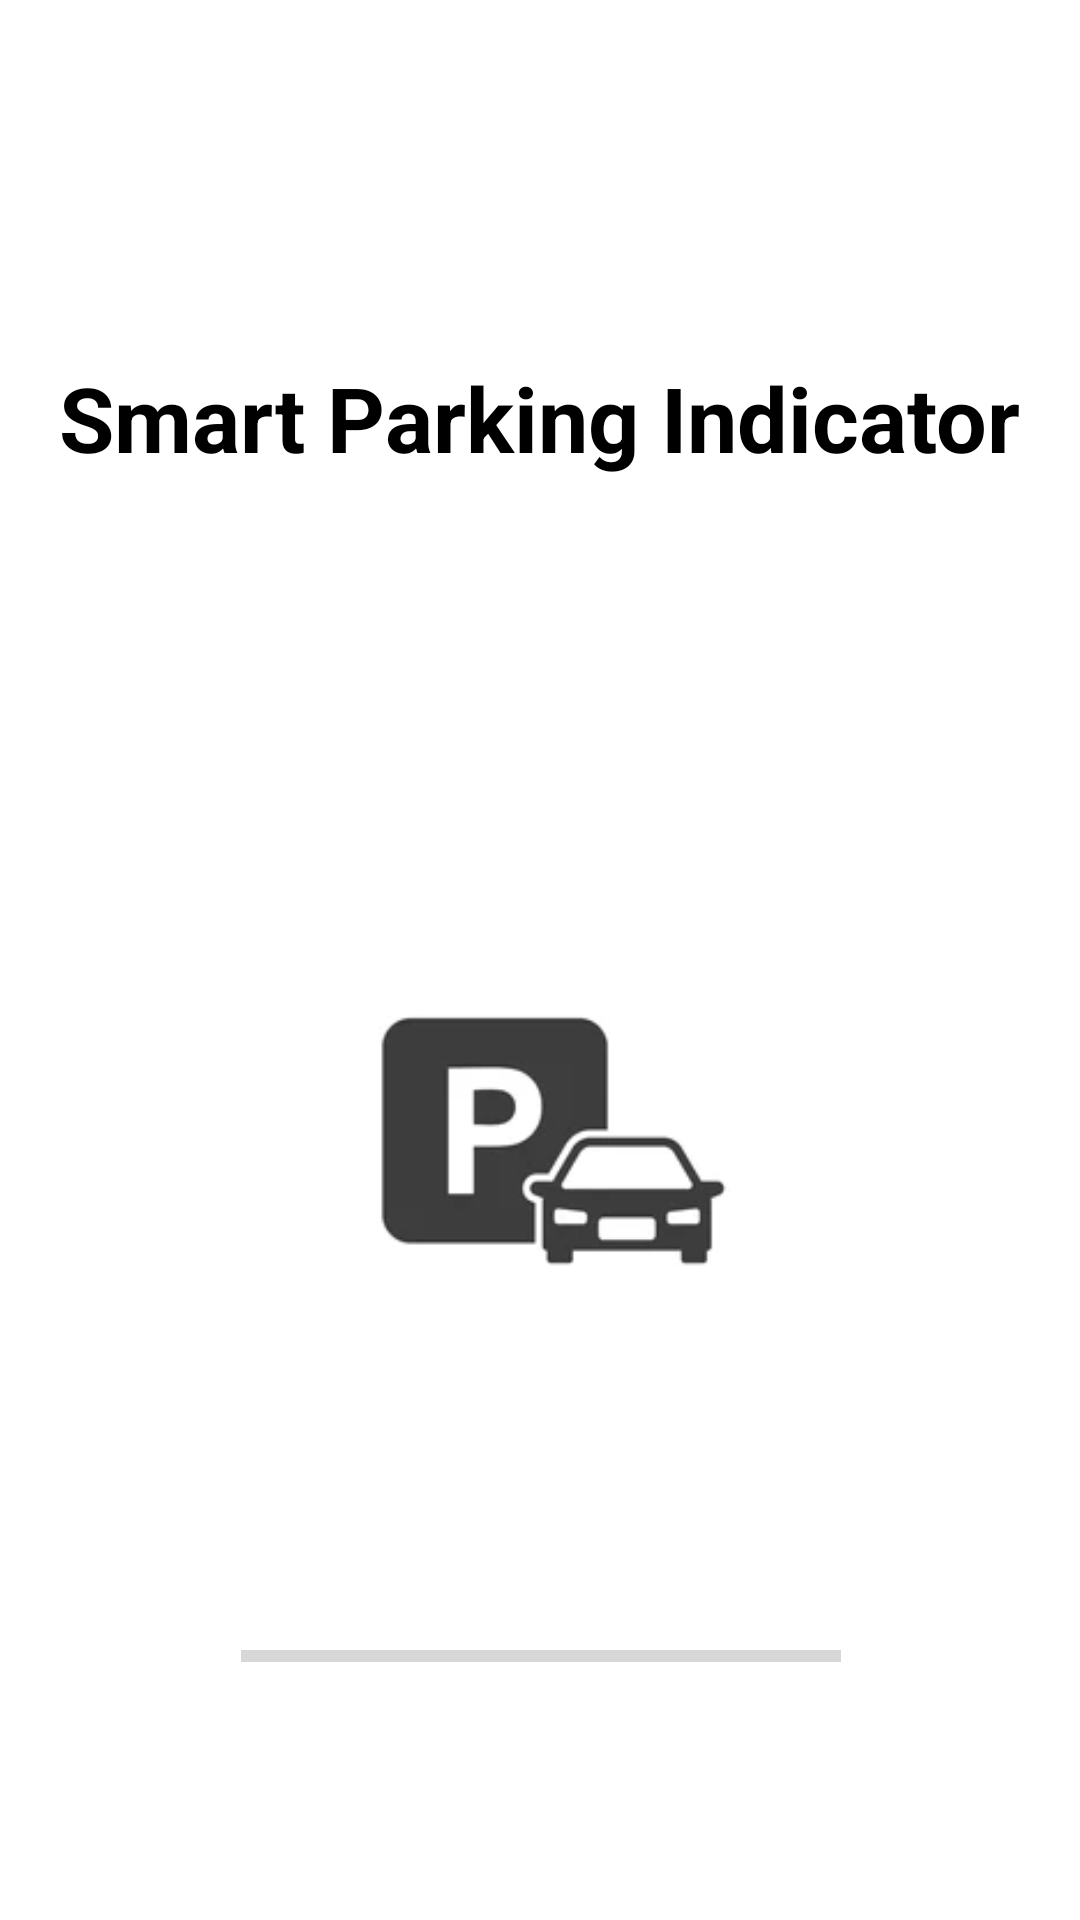

Icon click points for this 1080×1920 phone screenshot, format (x=x, y=y):
parking: (x=553, y=1141)
